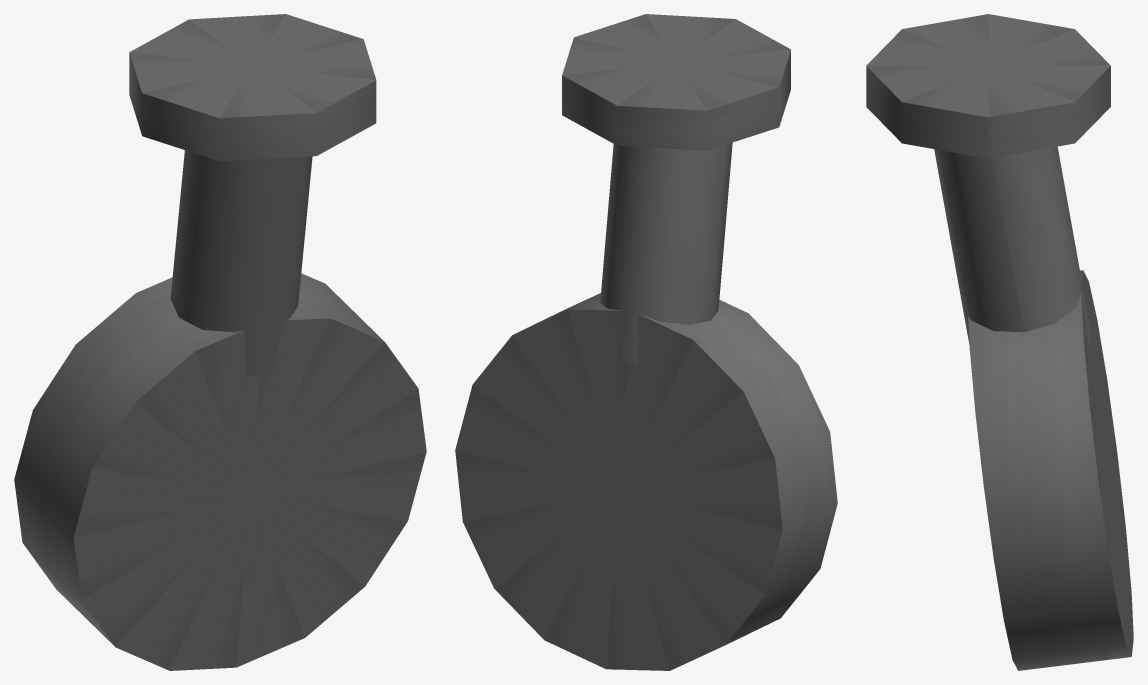
File: mastarmcurve_10x2_c8_up.obj
3 renders of one model, left to right at view 1: azimuth 30°, elevation 25°; view 2: azimuth 150°, elevation 25°; view 3: azimuth 270°, elevation 25°, orthographic. The views are drawn at different scales.
Parts seen in each view (by area): view 1: mastarm_10x2_c8_up; view 2: mastarm_10x2_c8_up; view 3: mastarm_10x2_c8_up.
Boxes of the visible parts, box(x1,y1,x2,y2) form: mastarm_10x2_c8_up: box(14, 14, 426, 670); mastarm_10x2_c8_up: box(455, 14, 837, 670); mastarm_10x2_c8_up: box(866, 14, 1133, 670).
Size of the model in its own units: 0.638 by 1.06 by 0.4374.
